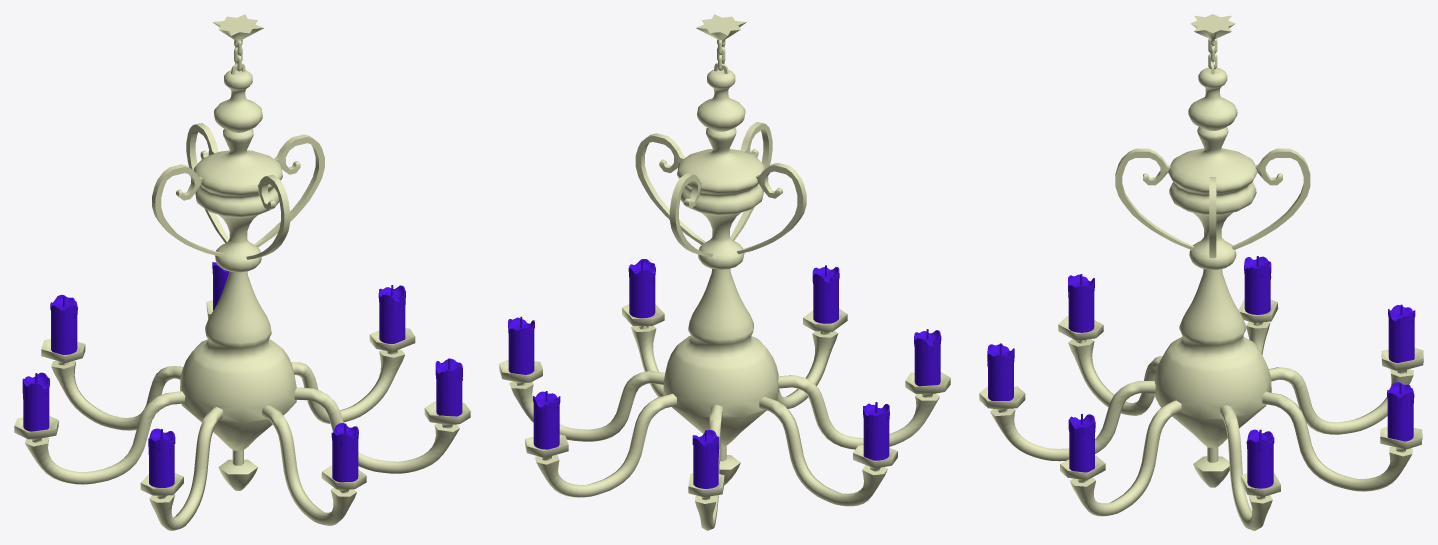
Rendered from kroonluchter.fbx.
3 views of the same model, side by side, from view 1: azimuth 30°, elevation 25°; view 2: azimuth 150°, elevation 25°; view 3: azimuth 270°, elevation 25° (orthographic).
Visible parts, largest first — view 1: Cube, Cylinder.007, Cylinder.003, Cylinder.013, Cylinder, Cylinder.011, Cylinder.005; view 2: Cube, Cylinder.009, Cylinder.003, Cylinder.005, Cylinder.013, Cylinder.007, Cylinder, Cylinder.011; view 3: Cube, Cylinder.007, Cylinder.013, Cylinder.005, Cylinder.011, Cylinder.009, Cylinder.003, Cylinder.
Part boxes in pixels (box(x1,y1,x2,y2)): Cube: box(14, 14, 470, 530); Cylinder.007: box(379, 285, 405, 343); Cylinder.003: box(436, 358, 462, 416); Cylinder.013: box(23, 373, 49, 431); Cylinder: box(332, 423, 358, 482); Cylinder.011: box(51, 295, 77, 354); Cylinder.005: box(149, 429, 174, 487); Cube: box(499, 14, 950, 530); Cylinder.009: box(533, 391, 559, 449); Cylinder.003: box(629, 259, 655, 318); Cylinder.005: box(914, 329, 940, 386); Cylinder.013: box(863, 402, 889, 460); Cylinder.007: box(508, 316, 534, 374); Cylinder: box(813, 265, 838, 323); Cylinder.011: box(693, 430, 718, 488); Cube: box(979, 14, 1423, 530); Cylinder.007: box(1247, 429, 1273, 488); Cylinder.013: box(1244, 256, 1270, 314); Cylinder.005: box(1068, 274, 1094, 332); Cylinder.011: box(1388, 304, 1414, 363); Cylinder.009: box(1387, 382, 1413, 441); Cylinder.003: box(1069, 414, 1094, 472); Cylinder: box(988, 343, 1013, 400).
Size of the model in its own units: 59.84 by 67.03 by 58.36.
